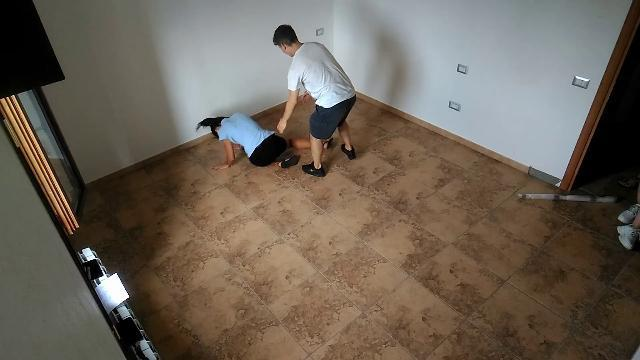violence: (198, 24, 360, 182)
